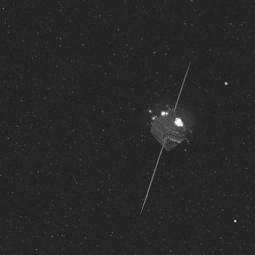smart_1: (128, 72, 211, 215)
